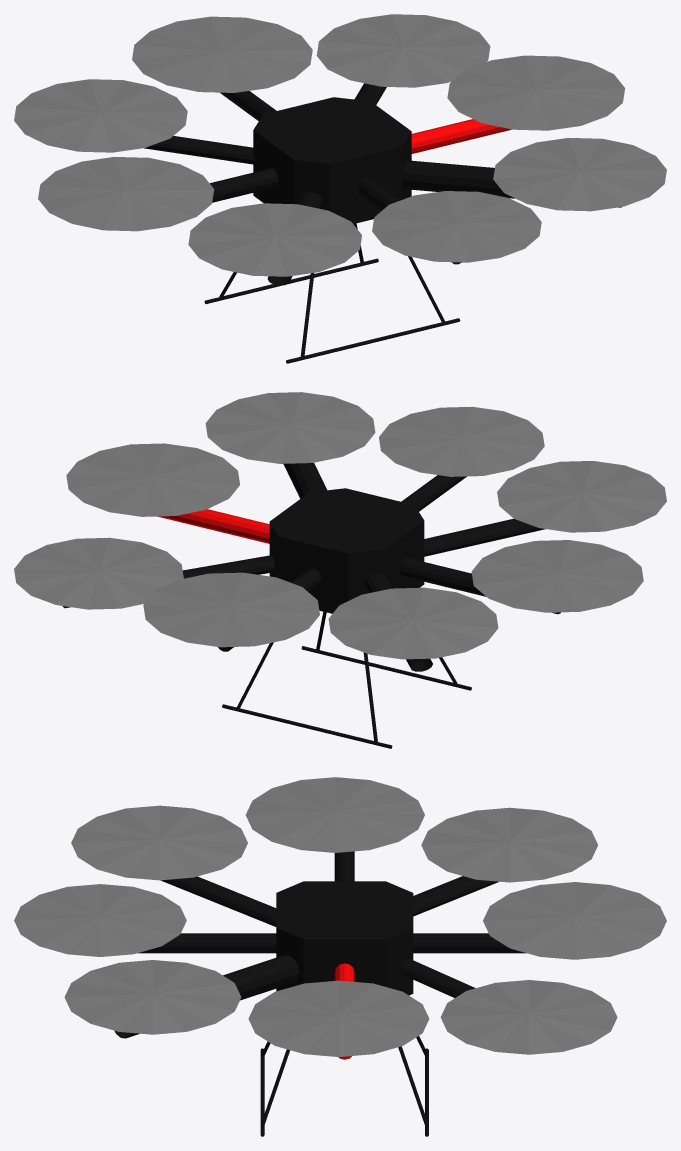
Rendered from octorotor_base.dae.
3 renders of one model, top to bottom at view 1: azimuth 30°, elevation 25°; view 2: azimuth 150°, elevation 25°; view 3: azimuth 270°, elevation 25°, orthographic. The views are drawn at different scales.
Visible parts, largest first — view 1: Component_2 (×74), Component1_1 (×64); view 2: Component_2 (×74), Component1_1 (×63); view 3: Component_2 (×72), Component1_1 (×64).
Part boxes in pixels (x1=…): Component_2 (×74): x1=38, y1=16, x2=624, y2=363; Component1_1 (×64): x1=14, y1=14, x2=666, y2=276; Component_2 (×74): x1=62, y1=406, x2=643, y2=748; Component1_1 (×63): x1=14, y1=392, x2=666, y2=659; Component_2 (×72): x1=14, y1=777, x2=666, y2=1056; Component1_1 (×64): x1=64, y1=805, x2=617, y2=1054.
Bounding box in the file's own units: 28.48 × 28.15 × 8.76.
